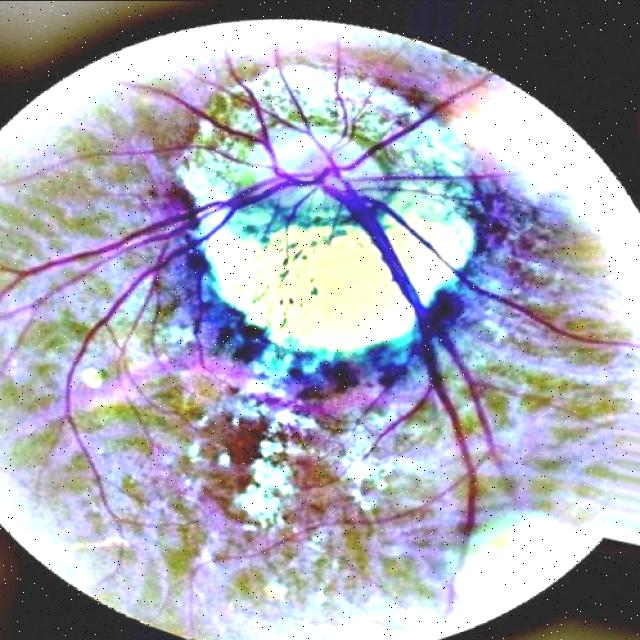Nerves: (0, 68, 637, 540)
Optic Disk: (179, 59, 474, 355)
